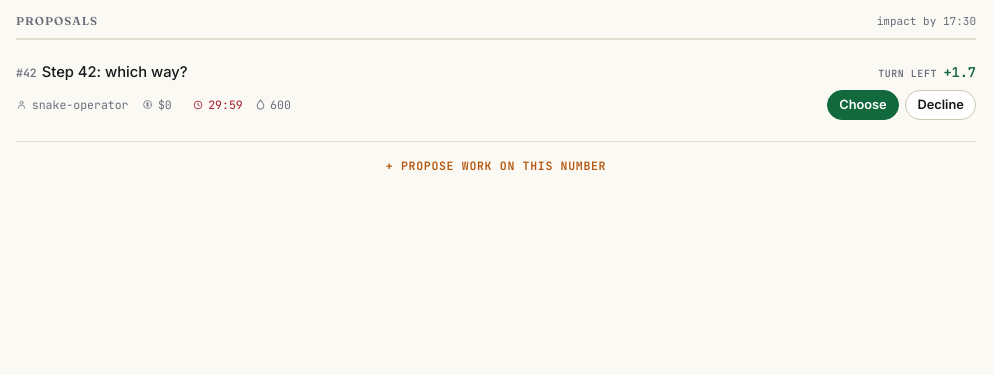
Scenario: A MANAGER CHOOSES AN OPTION FROM THE ROW › Decline still asks for the reason, as on any row
This screenshot has width=993, height=375.
Click the button "Decline". click: {"x": 941, "y": 105}
box: top-left (905, 90), bottom-right (976, 120)
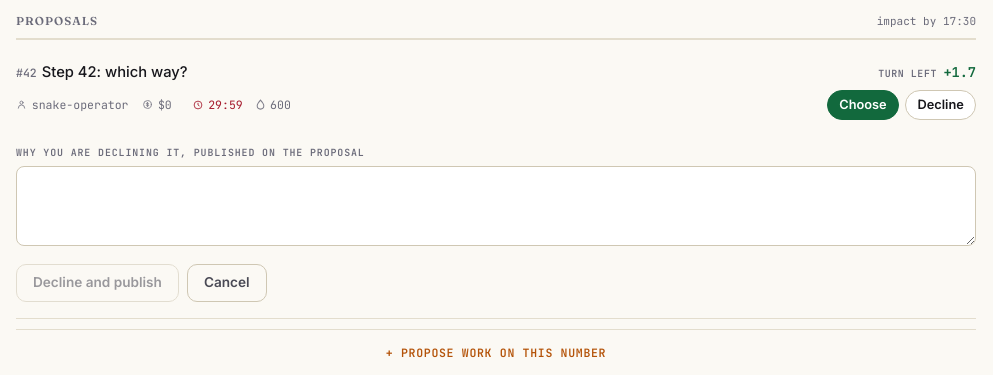
Check: the text box is shown, box top-left (16, 166), bottom-right (976, 246)
